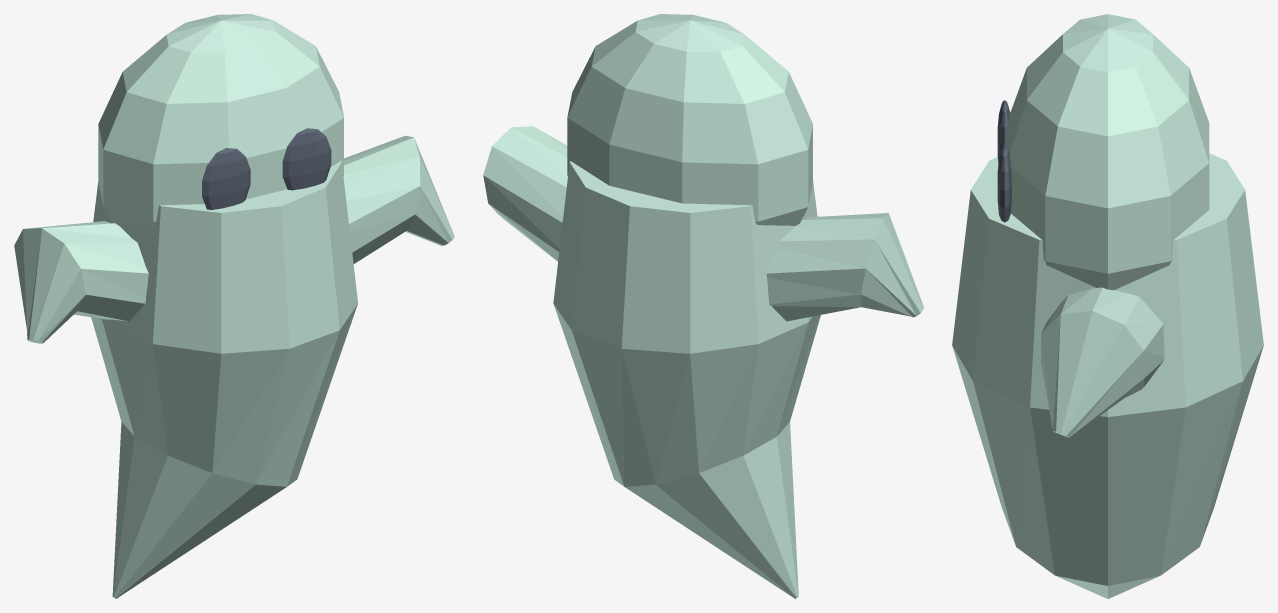
Rendered from ghost.glb.
3 views of the same model, side by side, from view 1: azimuth 30°, elevation 25°; view 2: azimuth 150°, elevation 25°; view 3: azimuth 270°, elevation 25° (orthographic). The views are drawn at different scales.
Parts seen in each view (by area): view 1: ghost_body, ghost_head, ghost_arm-1, ghost_arm1, dark_eye1, dark_eye-1; view 2: ghost_body, ghost_head, ghost_arm-1, ghost_arm1; view 3: ghost_body, ghost_head, ghost_arm1, dark_eye1, dark_eye-1.
Part boxes in pixels (x1,y1,x2,y2): ghost_body: (91, 161, 357, 598); ghost_head: (98, 14, 343, 225); ghost_arm-1: (14, 221, 148, 343); ghost_arm1: (343, 135, 454, 263); dark_eye1: (282, 128, 331, 190); dark_eye-1: (202, 148, 250, 209); ghost_body: (553, 161, 820, 598); ghost_head: (567, 14, 812, 225); ghost_arm-1: (766, 213, 923, 321); ghost_arm1: (483, 126, 567, 261); ghost_body: (952, 153, 1263, 598); ghost_head: (1006, 14, 1209, 290); ghost_arm1: (1041, 287, 1164, 437); dark_eye1: (997, 145, 1011, 222); dark_eye-1: (997, 100, 1010, 163).
Size of the model in its own units: 1.45 by 1.8 by 0.809.
